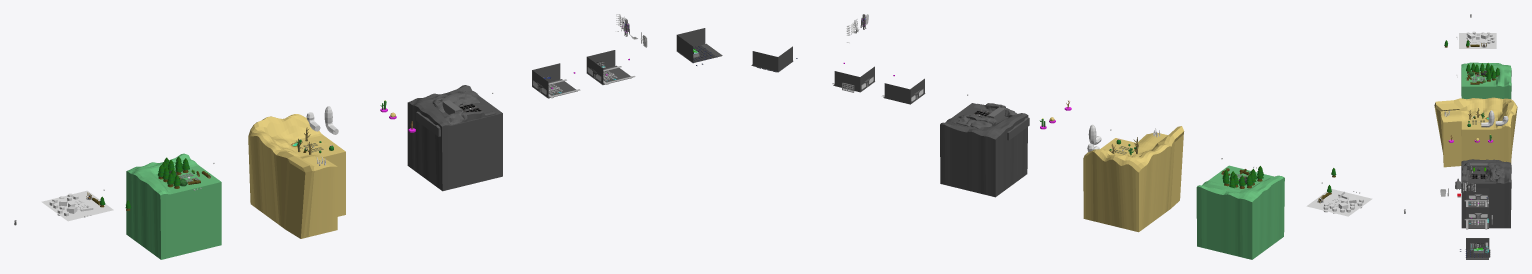
File: Loading screen.fbx
The picture shows the model from 3 angles, left to right: view 1: azimuth 30°, elevation 25°; view 2: azimuth 150°, elevation 25°; view 3: azimuth 270°, elevation 25°; orthographic projection. The views are drawn at different scales.
Visible parts, largest first — view 1: Cube.034, Cube.029, Toxic Base, Cube.147, Plane; view 2: Cube.034, Cube.029, Toxic Base, Plane, Cube.147, Cube.158, Cube.345, Cube.200; view 3: Cube.034, Toxic Base, Cube.029, Plane, Cube.147, Cube.157, Cube.199, Cube.344, Cube.198, Cube.392, Cylinder.053, Cube.076 (+4 smaller).
Part boxes in pixels (x1=…): Cube.034: x1=248, y1=114, x2=345, y2=238; Cube.029: x1=126, y1=153, x2=221, y2=259; Toxic Base: x1=407, y1=85, x2=502, y2=191; Cube.147: x1=416, y1=93, x2=496, y2=136; Plane: x1=41, y1=190, x2=113, y2=221; Cube.034: x1=1083, y1=126, x2=1184, y2=232; Cube.029: x1=1196, y1=165, x2=1284, y2=259; Toxic Base: x1=940, y1=103, x2=1028, y2=197; Plane: x1=1306, y1=189, x2=1372, y2=216; Cube.147: x1=958, y1=103, x2=1029, y2=140; Cube.158: x1=884, y1=83, x2=910, y2=104; Cube.345: x1=752, y1=51, x2=778, y2=71; Cube.200: x1=834, y1=71, x2=860, y2=91; Cube.034: x1=1434, y1=97, x2=1517, y2=167; Toxic Base: x1=1461, y1=159, x2=1511, y2=228; Cube.029: x1=1461, y1=62, x2=1511, y2=99; Plane: x1=1459, y1=33, x2=1496, y2=48; Cube.147: x1=1461, y1=162, x2=1496, y2=181; Cube.157: x1=1466, y1=188, x2=1489, y2=199; Cube.199: x1=1466, y1=207, x2=1489, y2=218; Cube.344: x1=1466, y1=238, x2=1489, y2=249; Cube.198: x1=1466, y1=218, x2=1488, y2=228; Cube.392: x1=1465, y1=249, x2=1490, y2=257; Cylinder.053: x1=1481, y1=110, x2=1494, y2=127; Cube.076: x1=1470, y1=163, x2=1487, y2=171.
Size of the model in its own units: 21342 by 3751 by 3089.
